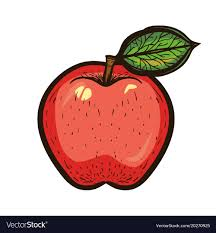apple: (37, 55, 178, 192)
